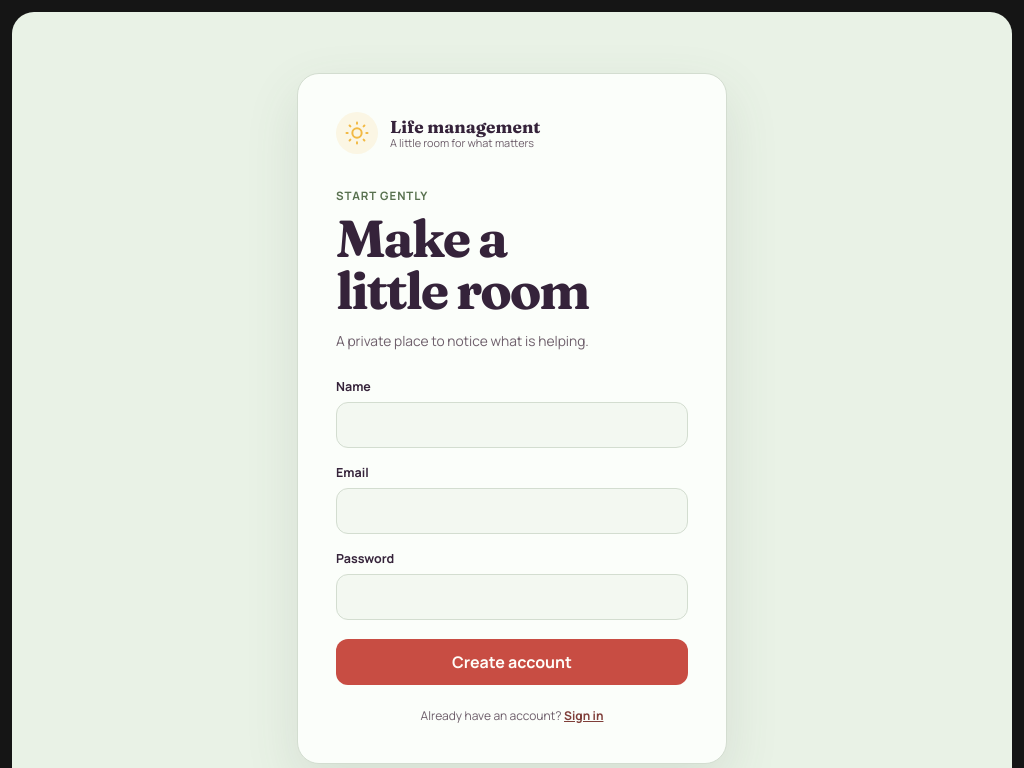
authentication forms › explains when the signup email already has an account
The width and height of the screenshot is (1024, 768).
In the field labelled "Name": (512, 425) [336,402,688,448], type "Stella"
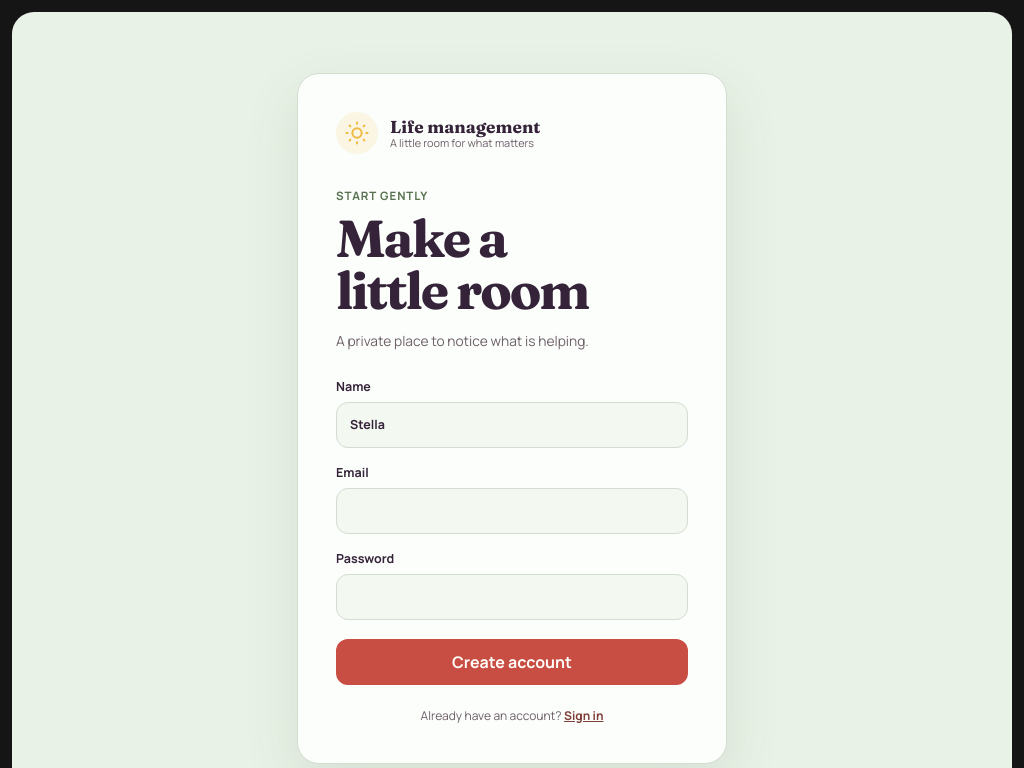
In the field labelled "Email": (512, 511) [336,488,688,534], type "stella@example.test"
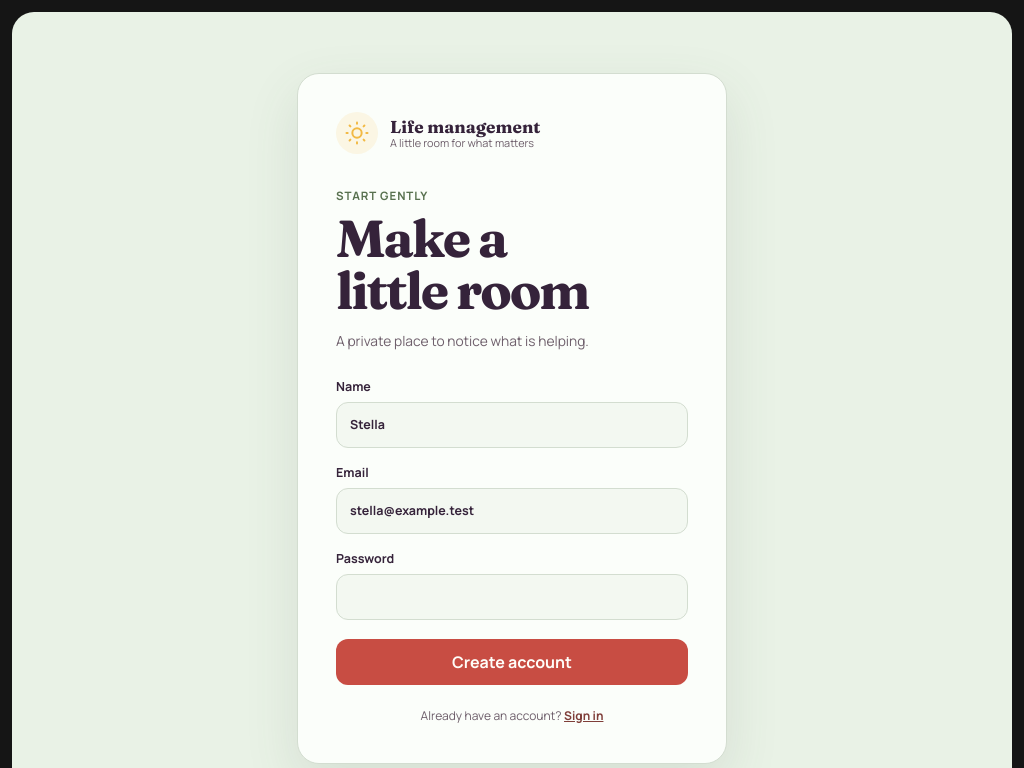
In the password field labelled "Password": (512, 597) [336,574,688,620], type "correct horse battery staple"
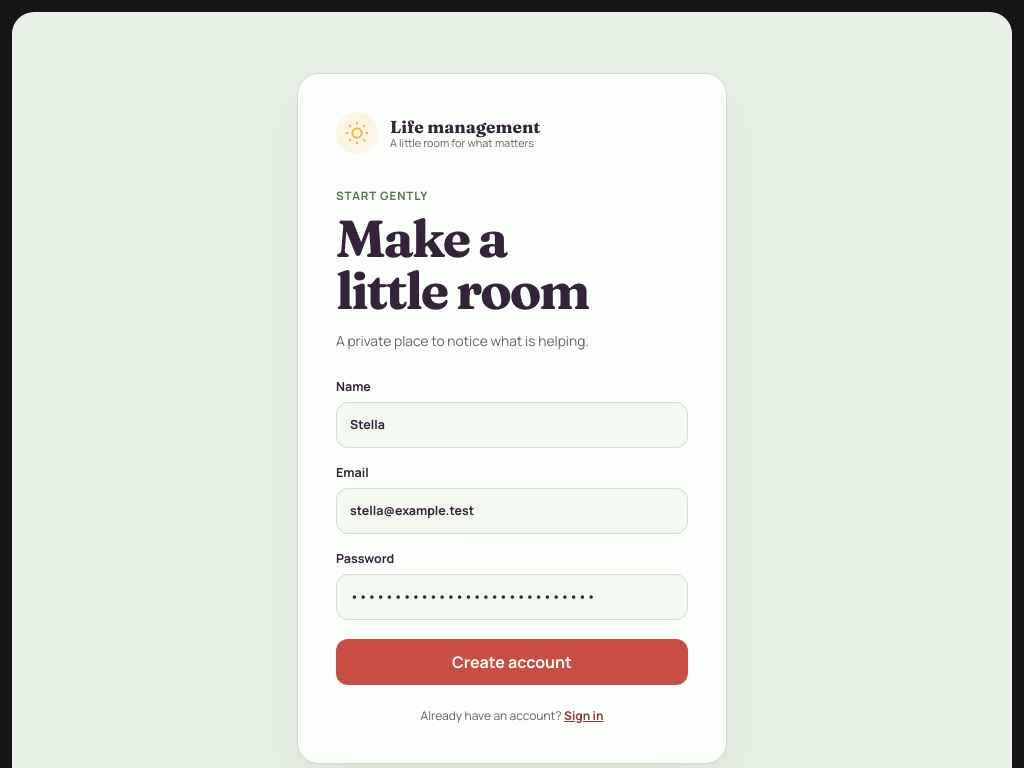
Click the button "Create account": click(512, 662) [336,639,688,685]
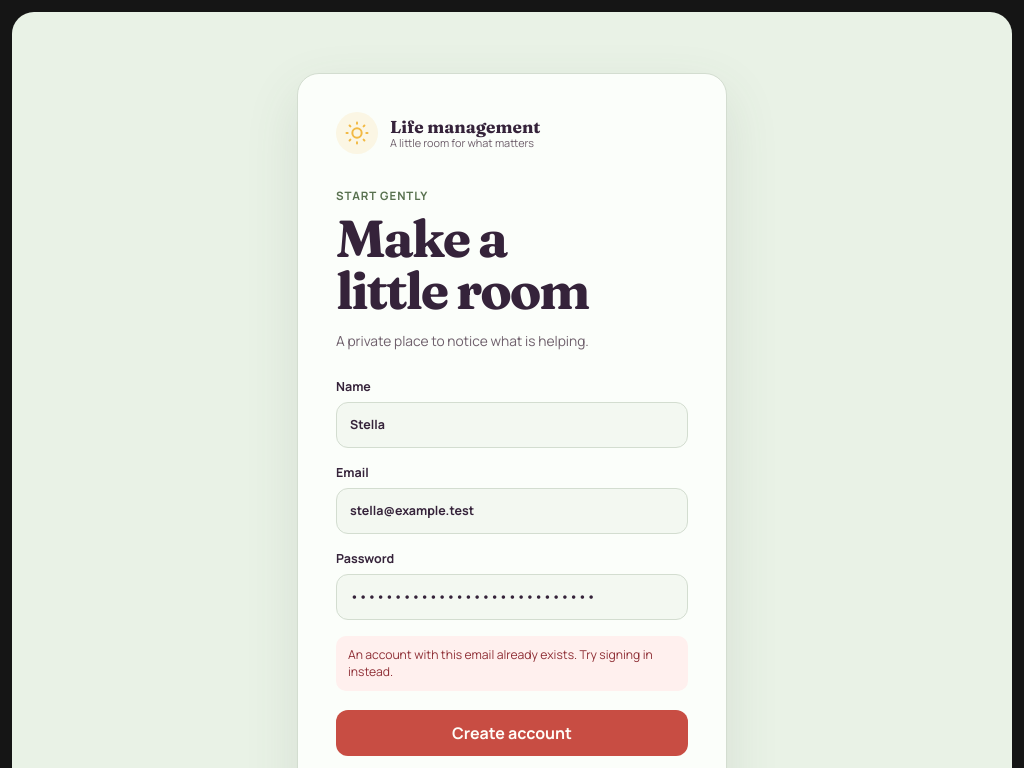
Expected: the message shows "An account with this email already exists", [348,646,653,680]
